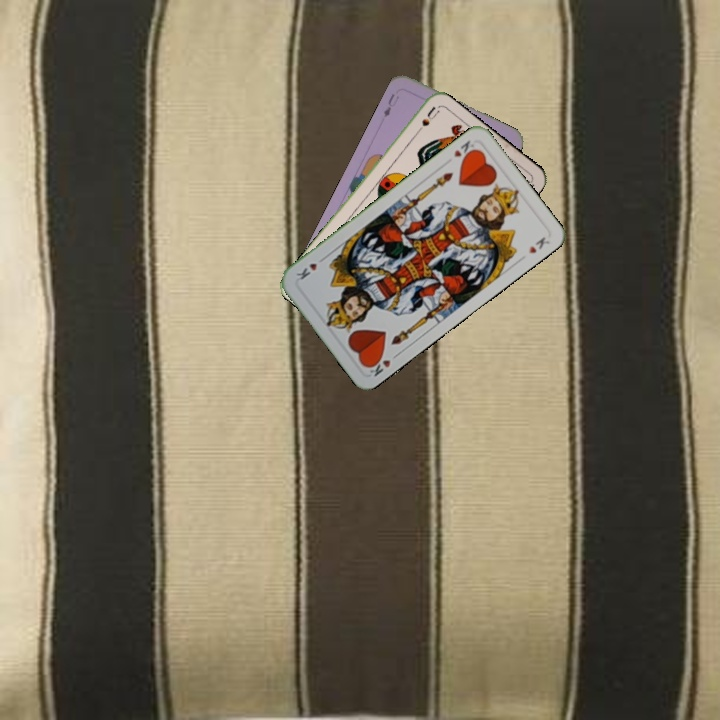EU: (379, 89, 402, 120)
HK: (363, 349, 402, 379), (449, 136, 478, 163)
SU: (410, 103, 442, 139)
